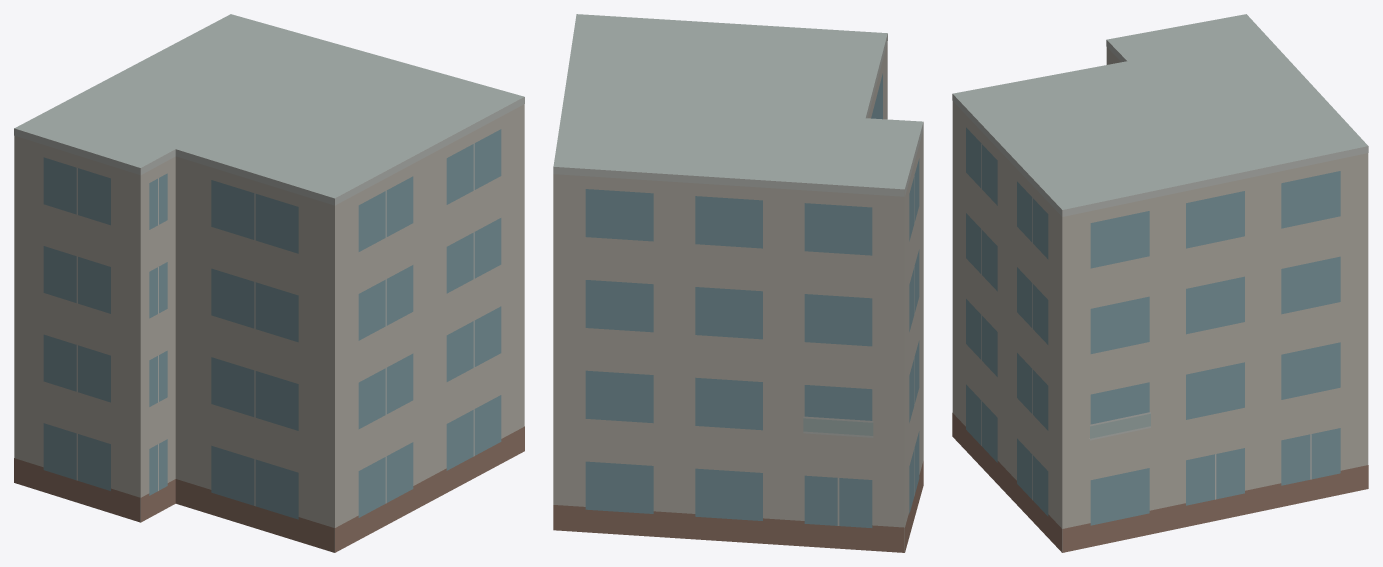
File: survey-upis-32847322.glb
3 views of the same model, side by side, from view 1: azimuth 30°, elevation 25°; view 2: azimuth 150°, elevation 25°; view 3: azimuth 270°, elevation 25° (orthographic). The views are drawn at different scales.
Visible parts, largest first — view 1: survey-upis-32847322.tmp; view 2: survey-upis-32847322.tmp; view 3: survey-upis-32847322.tmp.
Boxes of the visible parts, x1,y1,x2,y2 form: survey-upis-32847322.tmp: (14, 14, 524, 552); survey-upis-32847322.tmp: (553, 14, 923, 552); survey-upis-32847322.tmp: (952, 14, 1368, 552).
Size of the model in its own units: 14.75 by 12.02 by 13.23.
